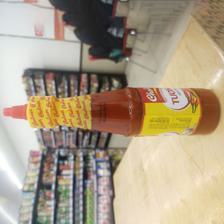Tuong: (1, 85, 222, 138)
